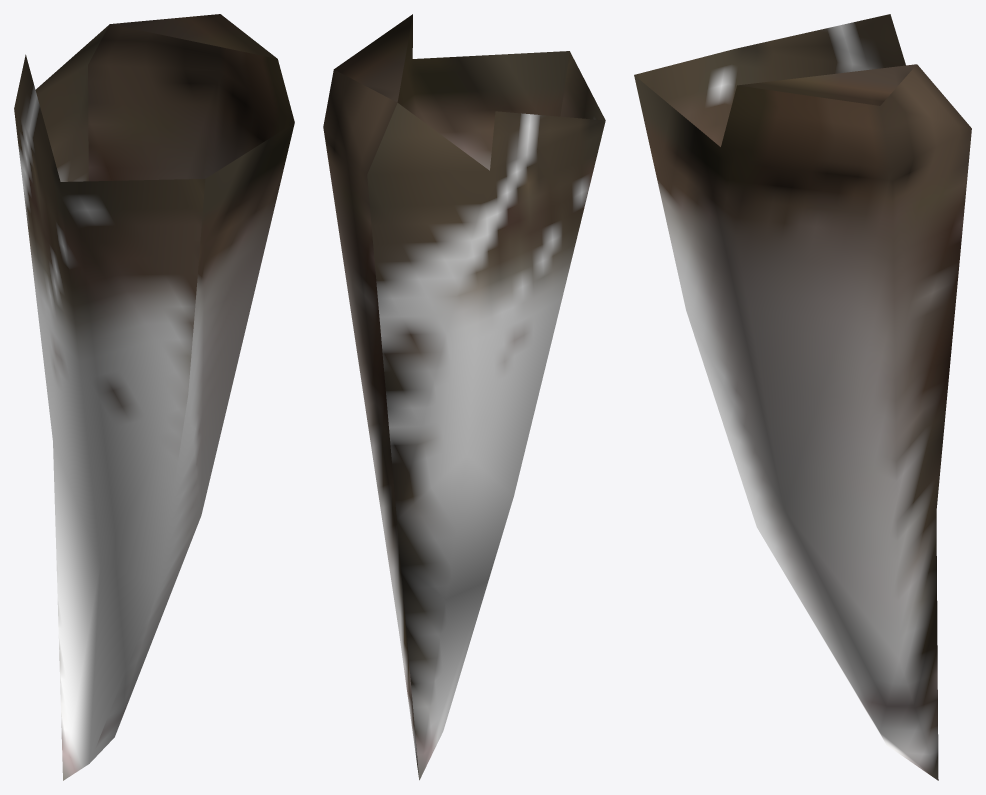
File: teeth.fbx
The picture shows the model from 3 angles, left to right: view 1: azimuth 30°, elevation 25°; view 2: azimuth 150°, elevation 25°; view 3: azimuth 270°, elevation 25°; orthographic projection. The views are drawn at different scales.
Parts seen in each view (by area): view 1: Trex_Rigged.001; view 2: Trex_Rigged.001; view 3: Trex_Rigged.001.
Boxes of the visible parts, box(x1,y1,x2,y2) form: Trex_Rigged.001: box(14, 14, 294, 780); Trex_Rigged.001: box(323, 14, 605, 780); Trex_Rigged.001: box(634, 14, 971, 780).
Bounding box in the file's own units: 0.0543 × 0.1662 × 0.0681.
